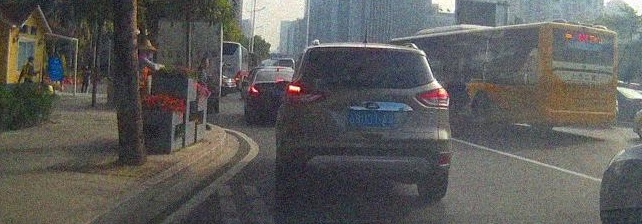L_light: (284, 84, 323, 103)
R_light: (415, 87, 450, 107)
T_light: (358, 48, 373, 52)
day-left: (274, 42, 451, 199)
